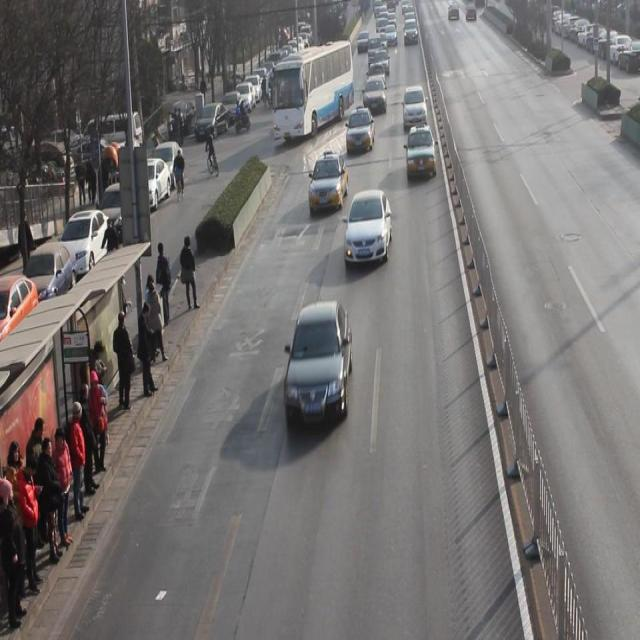car: (284, 301, 355, 426), (343, 190, 393, 266), (308, 154, 349, 215), (406, 126, 435, 177), (346, 109, 375, 154), (403, 85, 428, 130), (363, 76, 387, 115)
van: (273, 42, 353, 138)
